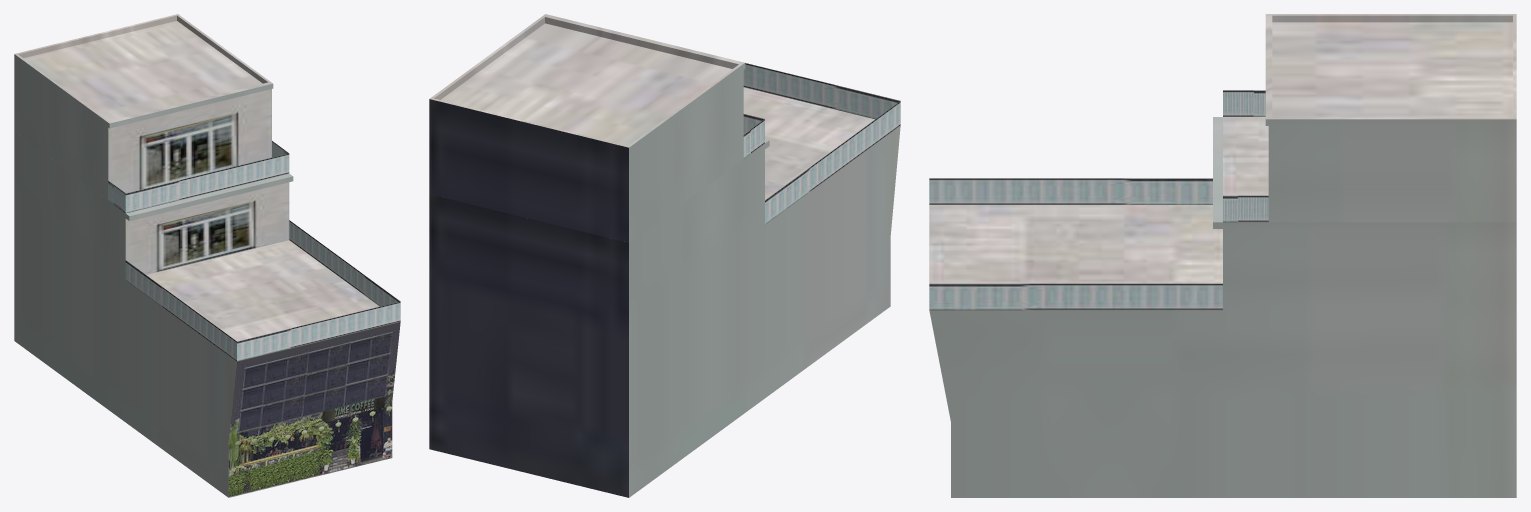
The picture shows the model from 3 angles, left to right: view 1: azimuth 30°, elevation 25°; view 2: azimuth 150°, elevation 25°; view 3: azimuth 270°, elevation 25°; orthographic projection. The views are drawn at different scales.
Visible parts, largest first — view 1: 5dad58b285034211c0dae0a4.001; view 2: 5dad58b285034211c0dae0a4.001; view 3: 5dad58b285034211c0dae0a4.001.
Part boxes in pixels (<box>): 5dad58b285034211c0dae0a4.001: <box>14,14,400,497</box>; 5dad58b285034211c0dae0a4.001: <box>429,14,900,497</box>; 5dad58b285034211c0dae0a4.001: <box>929,14,1516,497</box>.
Bounding box in the file's own units: 10.45 × 17.51 × 24.62.
Materials: 1 (1 with a texture image).
